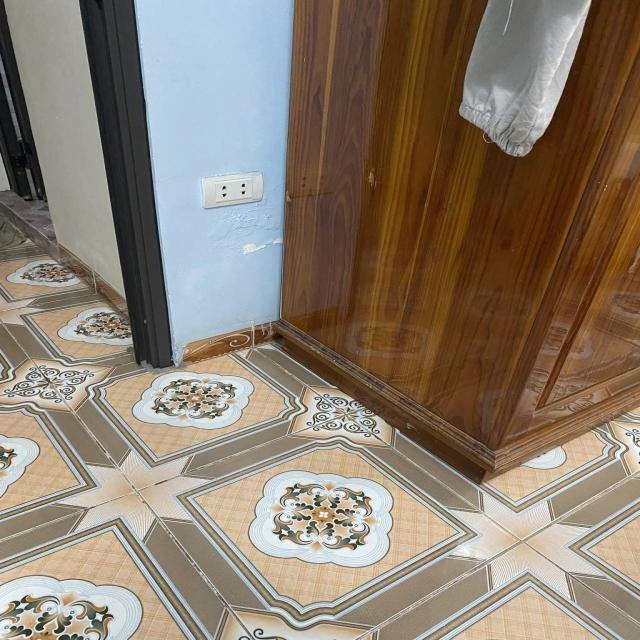outlet: (201, 172, 263, 209)
